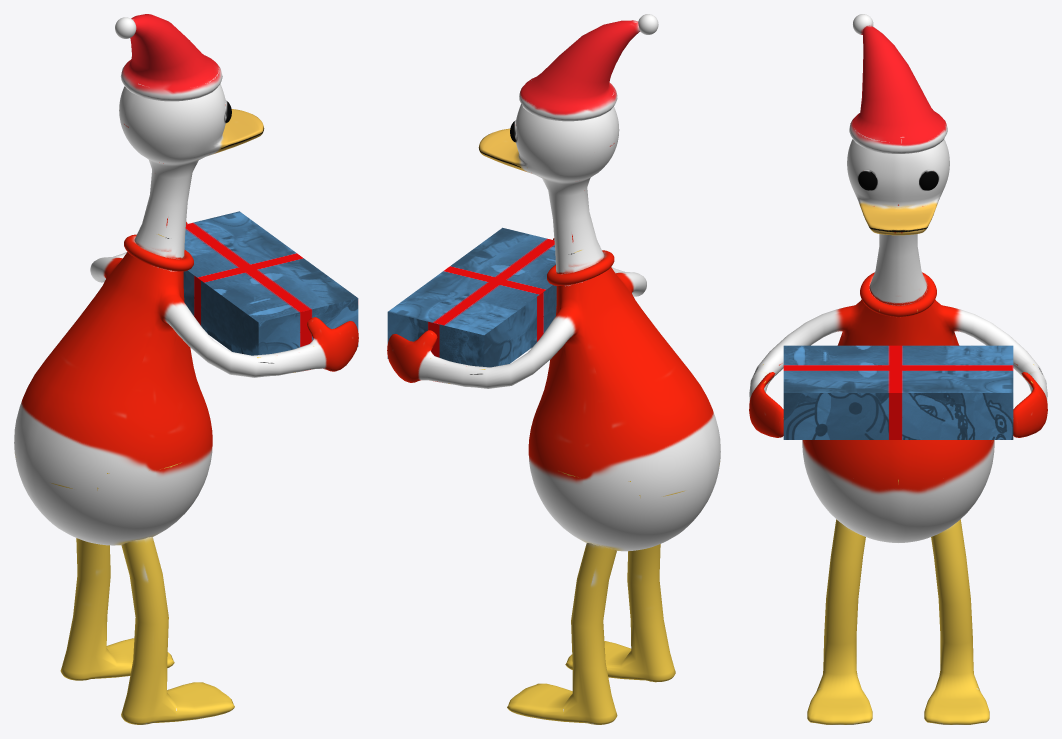
The model's file is duck.glb.
3 renders of one model, left to right at view 1: azimuth 30°, elevation 25°; view 2: azimuth 150°, elevation 25°; view 3: azimuth 270°, elevation 25°, orthographic. The views are drawn at different scales.
Parts seen in each view (by area): view 1: creature, present, hat; view 2: creature, present, hat; view 3: creature, present, hat.
Boxes of the visible parts, x1,y1,x2,y2 form: creature: (14,84,358,724); present: (183,211,358,355); hat: (115,14,222,101); creature: (387,104,720,724); present: (387,227,556,367); hat: (519,14,658,121); creature: (749,139,1047,724); present: (783,345,1013,439); hat: (849,14,947,153).
Size of the model in its own units: 0.3667 by 0.8942 by 0.36.
3 materials, 3 textured.
